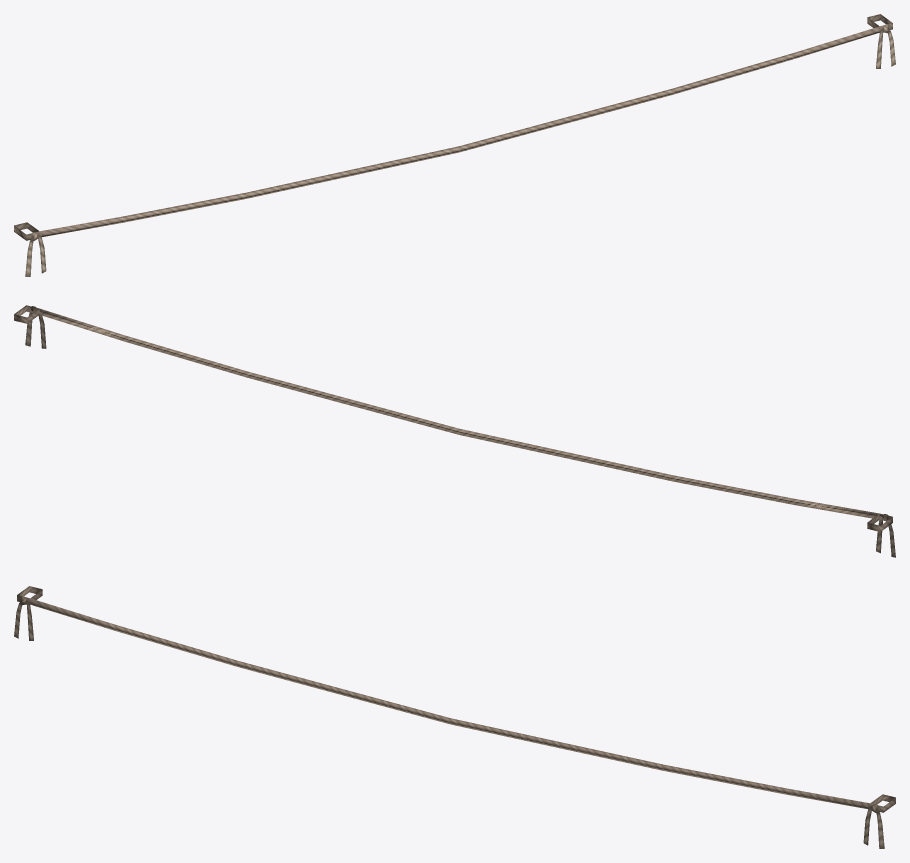
The model's file is jsf_2P_String_s02_02.fbx.
The picture shows the model from 3 angles, top to bottom: view 1: azimuth 30°, elevation 25°; view 2: azimuth 150°, elevation 25°; view 3: azimuth 330°, elevation 25°; orthographic projection.
Parts seen in each view (by area): view 1: jsf_2P_String_s02_02; view 2: jsf_2P_String_s02_02; view 3: jsf_2P_String_s02_02.
Part boxes in pixels (x1,y1,x2,y2): jsf_2P_String_s02_02: [14, 14, 895, 276]; jsf_2P_String_s02_02: [14, 305, 895, 557]; jsf_2P_String_s02_02: [14, 586, 895, 848].
Bounding box in the file's own units: 211 × 9.85 × 5.92.
